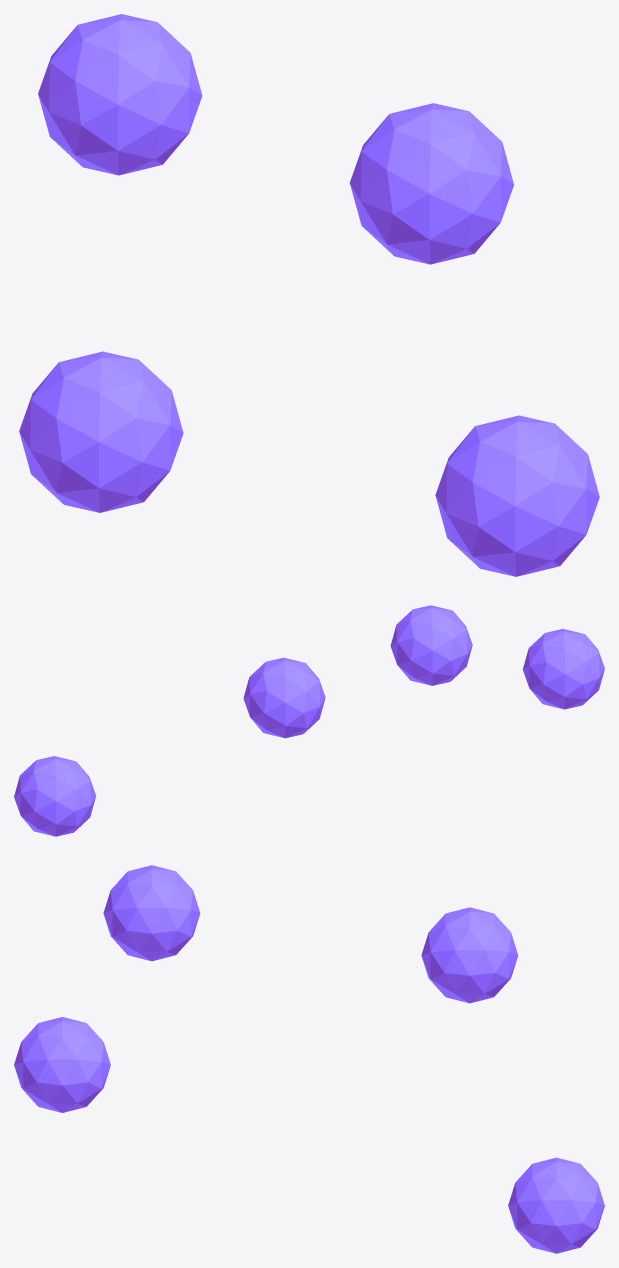
File: pattern2.dae
3 views of the same model, one above another, from view 1: azimuth 30°, elevation 25°; view 2: azimuth 150°, elevation 25°; view 3: azimuth 270°, elevation 25° (orthographic). The views are drawn at different scales.
Visible parts, largest first — view 1: ball (×4); view 2: ball (×4); view 3: ball (×4).
Part boxes in pixels (box(x1,y1,x2,y2)): ball (×4): box(19, 14, 599, 576); ball (×4): box(14, 605, 604, 836); ball (×4): box(14, 865, 604, 1253).
Bounding box in the file's own units: 12.8 × 5.78 × 13.62.
